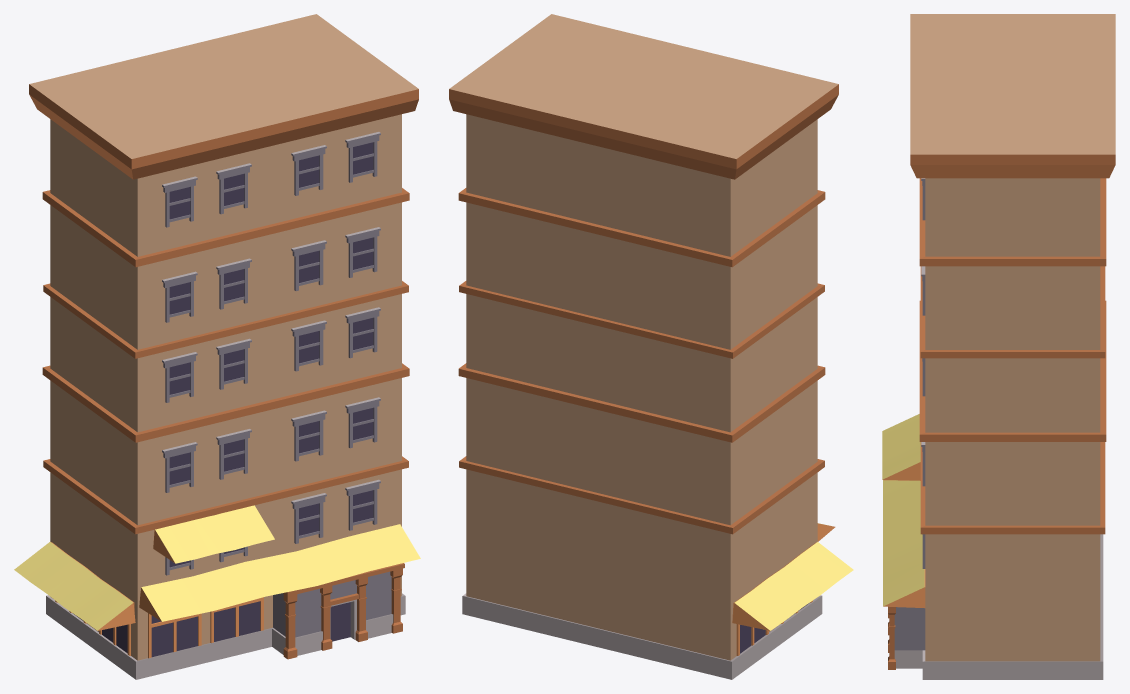
Rendered from rectangle building - yellow.fbx.
3 views of the same model, side by side, from view 1: azimuth 30°, elevation 25°; view 2: azimuth 150°, elevation 25°; view 3: azimuth 270°, elevation 25° (orthographic).
Visible parts, largest first — view 1: pCube9 (×3), pCube17, pCube21, pCube18, pCube26, pCube25, pCube6, pCube7, pCube2, pCube8, pCube5; view 2: pCube9 (×3), pCube21; view 3: pCube9 (×3), pCube17, pCube18, pCube7.
Part boxes in pixels (x1,y1,x2,y2): pCube9 (×3): (29, 14, 418, 679); pCube17: (139, 524, 420, 621); pCube21: (14, 541, 135, 630); pCube18: (153, 505, 274, 563); pCube26: (151, 615, 197, 657); pCube25: (214, 601, 260, 641); pCube6: (283, 594, 297, 659); pCube7: (390, 568, 402, 633); pCube2: (320, 586, 332, 650); pCube8: (355, 577, 367, 641); pCube5: (283, 563, 404, 596); pCube9 (×3): (449, 14, 838, 679); pCube21: (732, 542, 853, 630); pCube9 (×3): (894, 14, 1115, 679); pCube17: (883, 480, 925, 608); pCube18: (882, 414, 920, 480); pCube7: (888, 606, 895, 669).
Size of the model in its own units: 16.82 by 27.19 by 10.88.
